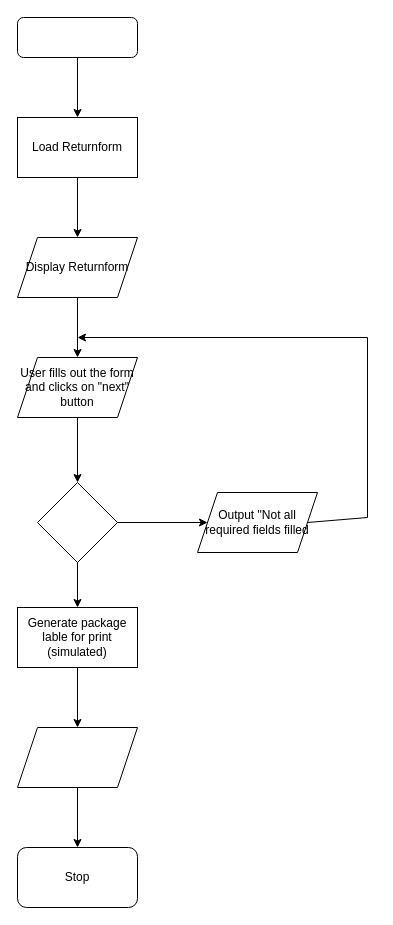
The diagram is 393 pixels wide and 925 high, and some of its shapes have lost their labels. The centre of each missing label's shape, as x and y in pixels:
required fields filled?: pixel 77 522
user prints label: pixel 77 757
User starts Return Process: pixel 77 37
